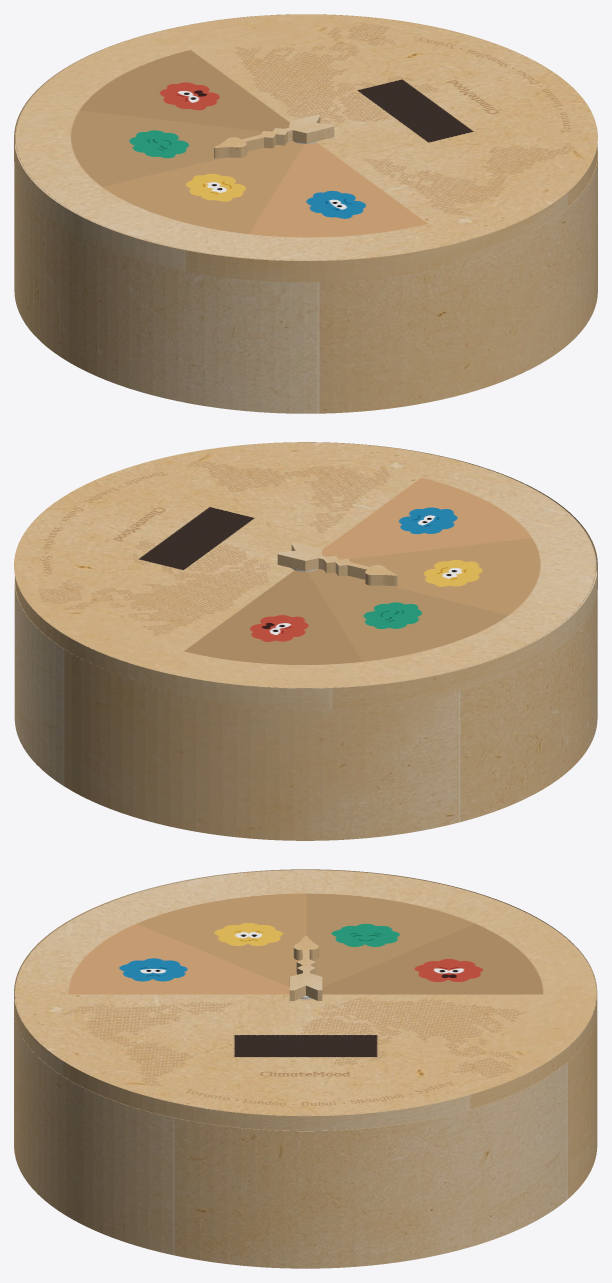
Rendered from digitaldevicev1(1).fbx.
3 views of the same model, one above another, from view 1: azimuth 30°, elevation 25°; view 2: azimuth 150°, elevation 25°; view 3: azimuth 270°, elevation 25° (orthographic).
Visible parts, largest first — view 1: panel, digital device v1.002, digital device v1.001, digital device v1.003; view 2: panel, digital device v1.002, digital device v1.001, digital device v1.003; view 3: panel, digital device v1.002, digital device v1.001, digital device v1.003.
Boxes of the visible parts, x1,y1,x2,y2 form: panel: [15, 14, 597, 260]; digital device v1.002: [14, 144, 597, 413]; digital device v1.001: [14, 14, 597, 282]; digital device v1.003: [214, 114, 334, 158]; panel: [14, 442, 596, 688]; digital device v1.002: [14, 570, 597, 840]; digital device v1.001: [15, 442, 597, 709]; digital device v1.003: [277, 542, 397, 586]; panel: [14, 870, 597, 1116]; digital device v1.002: [14, 999, 597, 1268]; digital device v1.001: [14, 869, 597, 1130]; digital device v1.003: [289, 935, 322, 1000].
Size of the model in its own units: 601 by 187 by 601.
8 materials, 4 textured.
